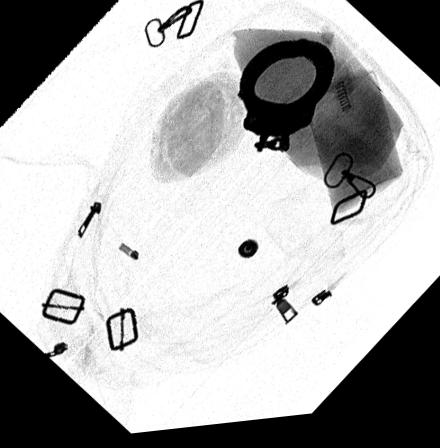HandCuffs: (234, 43, 333, 159)
